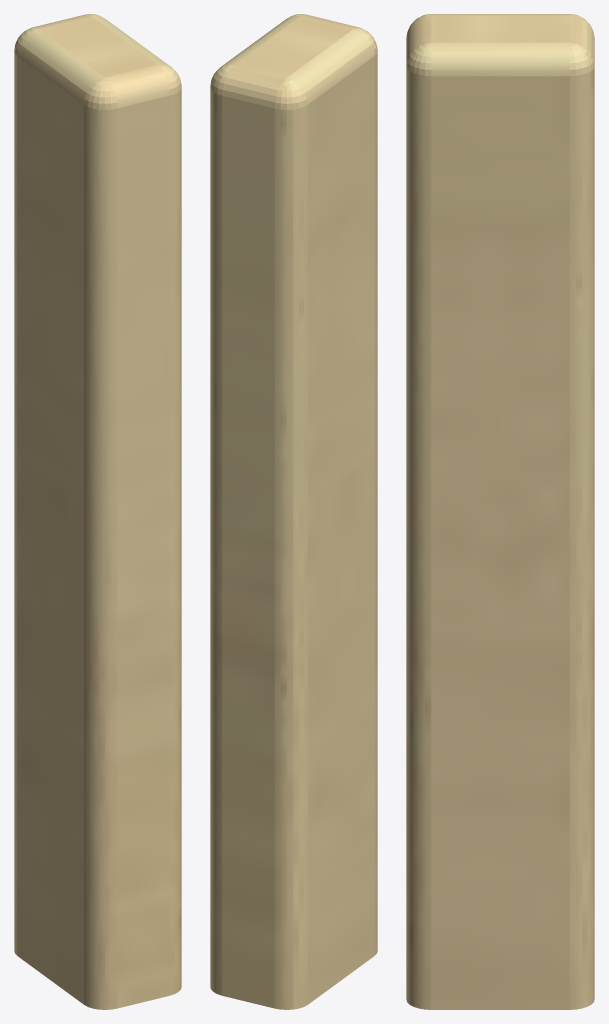
Rendered from original-4.obj.
3 views of the same model, side by side, from view 1: azimuth 30°, elevation 25°; view 2: azimuth 150°, elevation 25°; view 3: azimuth 270°, elevation 25° (orthographic). The views are drawn at different scales.
Parts seen in each view (by area): view 1: mesh4/mesh4-geometry#mesh4-geometry; view 2: mesh4/mesh4-geometry#mesh4-geometry; view 3: mesh4/mesh4-geometry#mesh4-geometry.
Boxes of the visible parts, x1=… form: mesh4/mesh4-geometry#mesh4-geometry: x1=14, y1=14, x2=181, y2=1009; mesh4/mesh4-geometry#mesh4-geometry: x1=210, y1=14, x2=377, y2=1009; mesh4/mesh4-geometry#mesh4-geometry: x1=406, y1=14, x2=594, y2=1009.
Size of the model in its own units: 0.1069 by 0.9976 by 0.1781.
